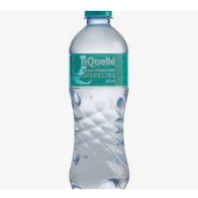Bottle: (70, 11, 130, 189)
